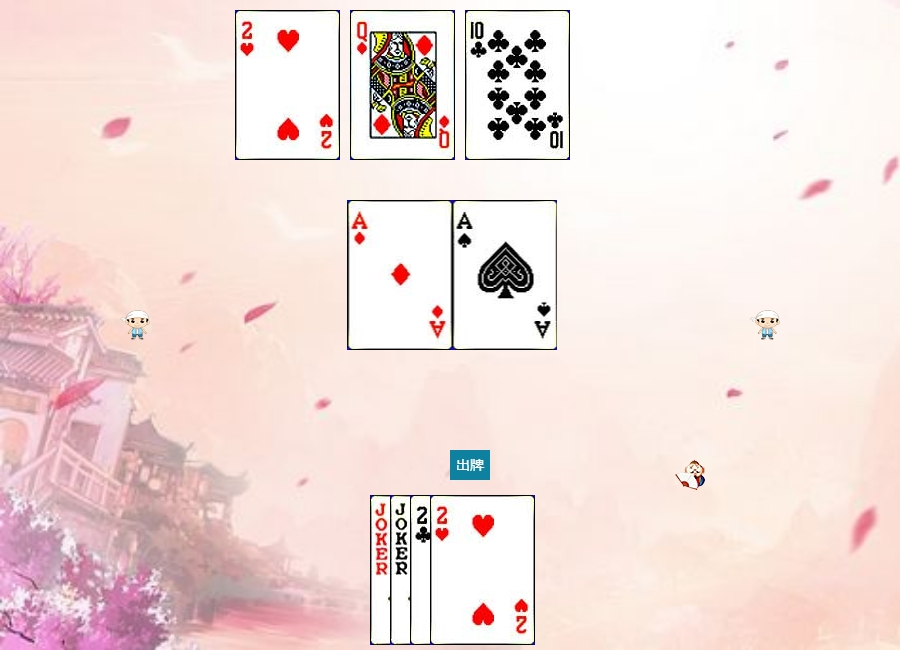10~2: (465, 10, 570, 160)
12~1: (350, 10, 455, 160)
14~1: (348, 200, 453, 350)
14~4: (453, 200, 558, 350)
15~2: (410, 495, 515, 645)
15~3: (235, 10, 340, 160), (430, 495, 535, 645)
17~3: (390, 495, 495, 645)
18~4: (370, 495, 475, 645)
